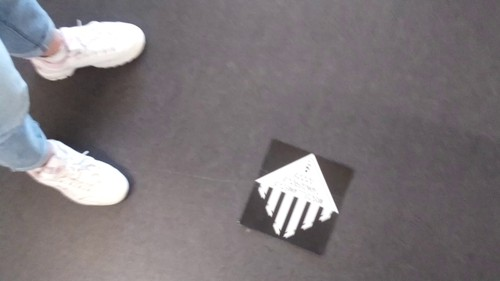misgoods: (253, 151, 341, 242)
